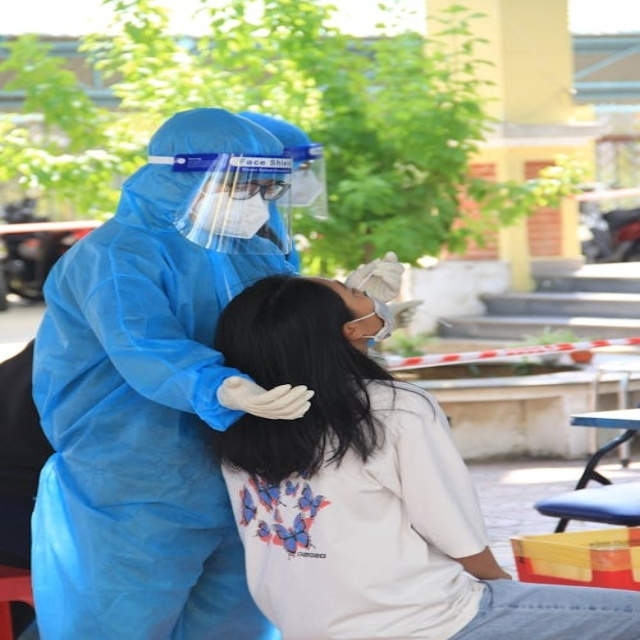Gafas: (214, 174, 296, 201)
Guantes: (216, 375, 314, 421), (346, 251, 406, 305)
Mascara: (186, 183, 273, 240), (356, 292, 394, 345), (285, 161, 325, 210)
